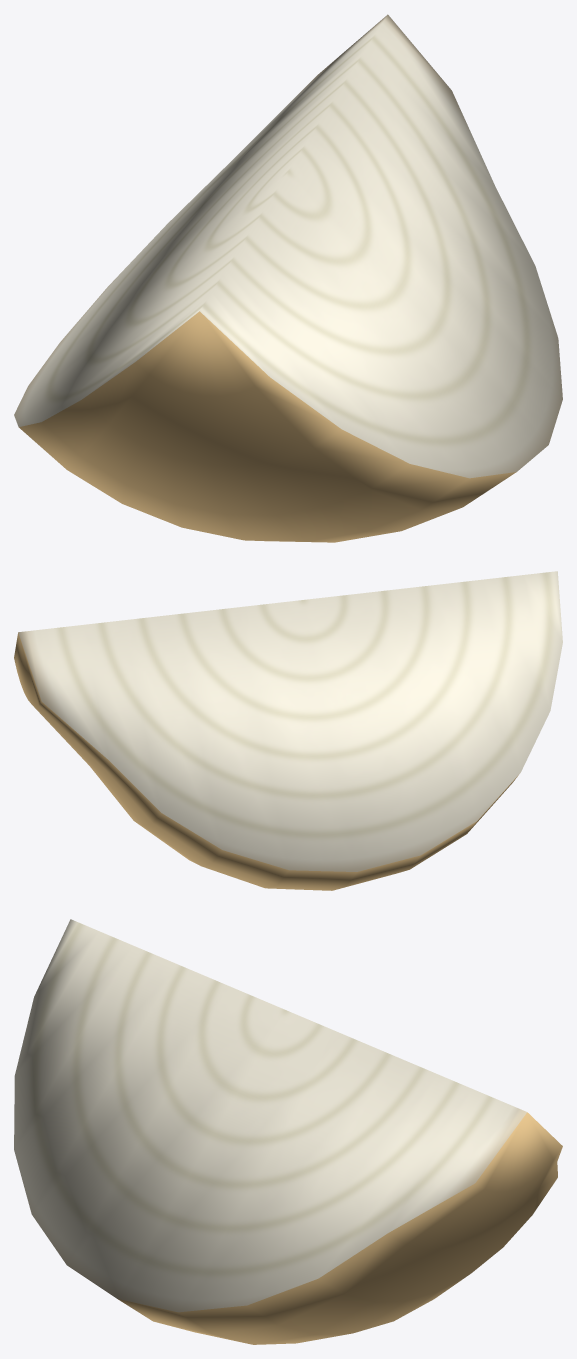
The model's file is Onion_Portion.fbx.
3 views of the same model, one above another, from view 1: azimuth 30°, elevation 25°; view 2: azimuth 150°, elevation 25°; view 3: azimuth 270°, elevation 25° (orthographic). The views are drawn at different scales.
Parts seen in each view (by area): view 1: Onion_Portion; view 2: Onion_Portion; view 3: Onion_Portion.
Part boxes in pixels (bbox=[...]): Onion_Portion: bbox=[14, 14, 562, 542]; Onion_Portion: bbox=[14, 571, 562, 890]; Onion_Portion: bbox=[14, 919, 562, 1344].
Size of the model in its own units: 0.0649 by 0.04 by 0.0649.
Materials: 2 (1 with a texture image).
